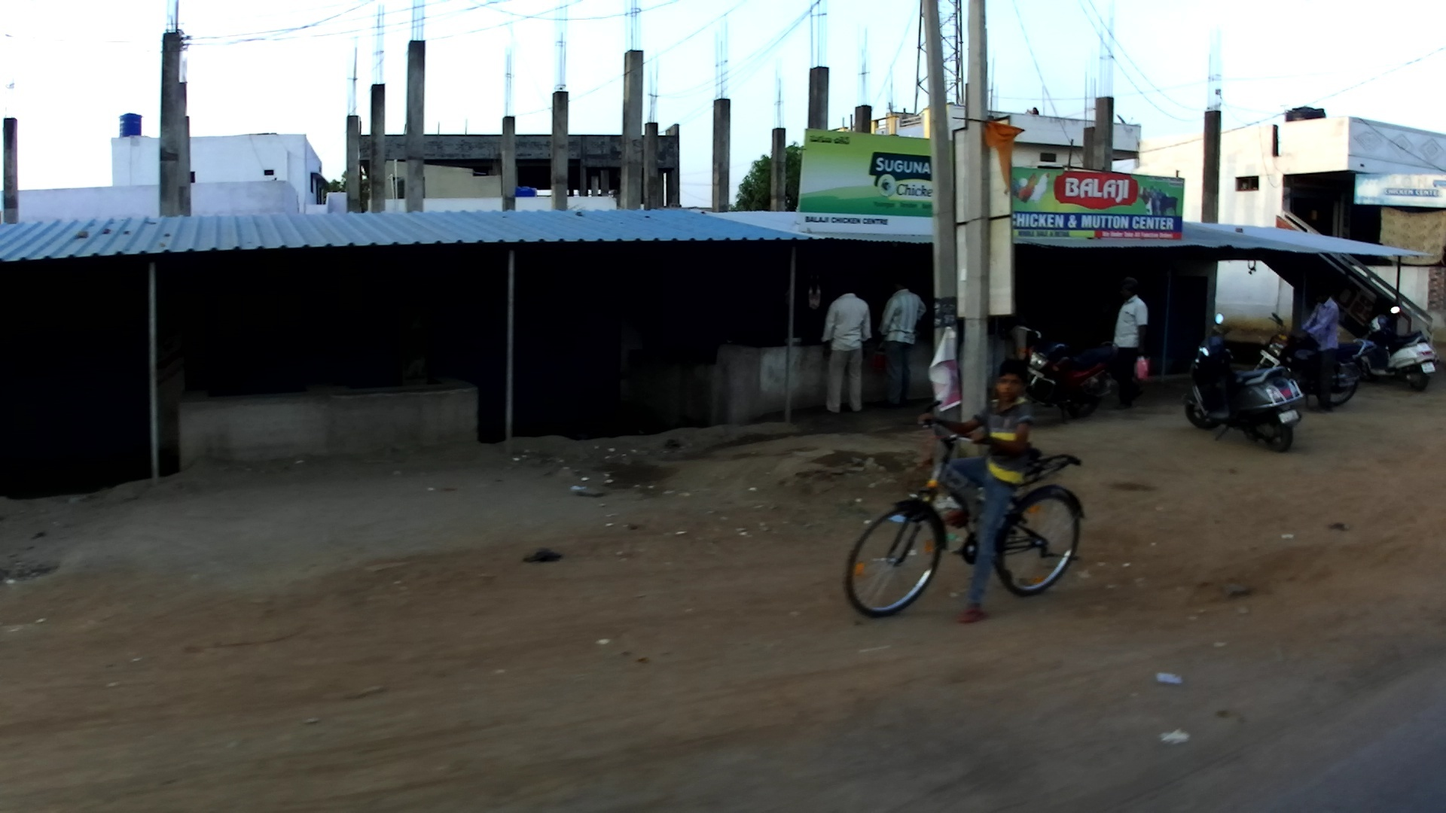bicycle: (844, 399, 1085, 620)
motorcycle: (1184, 312, 1306, 454), (1252, 311, 1376, 410), (1017, 323, 1119, 422), (1361, 305, 1439, 391)
person: (876, 276, 927, 414), (822, 280, 872, 418), (1111, 277, 1149, 410)
rider: (917, 357, 1039, 626), (1298, 282, 1338, 413)
